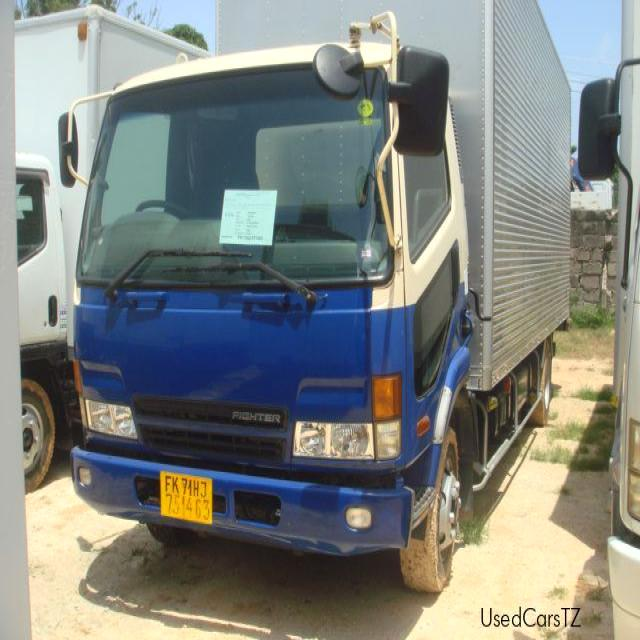truck: (59, 1, 573, 593)
